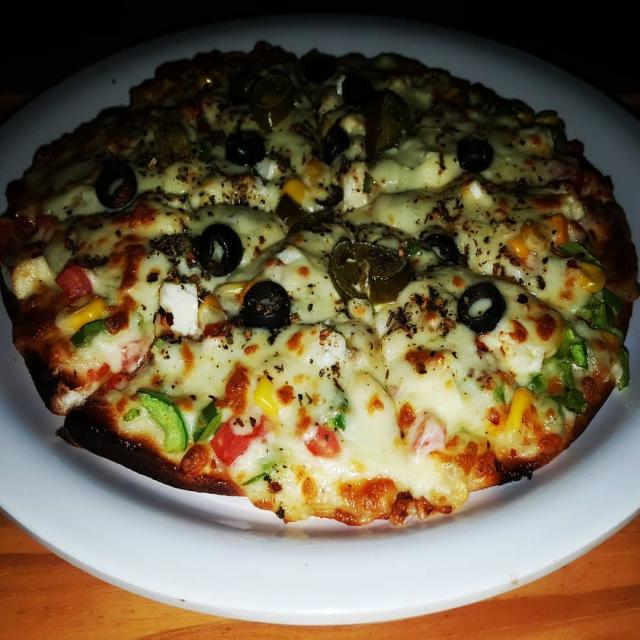black_olives: (457, 278, 506, 338), (239, 279, 291, 329), (195, 220, 243, 274), (92, 156, 138, 207), (221, 126, 265, 168), (455, 133, 494, 173)
mushrooms: (324, 236, 413, 310), (155, 274, 203, 342), (3, 246, 54, 296)
peppers: (522, 328, 586, 410), (585, 285, 634, 389), (136, 387, 194, 457), (212, 412, 268, 466), (53, 299, 111, 327), (556, 238, 600, 272), (55, 262, 89, 298)
pizza: (0, 42, 640, 533)
